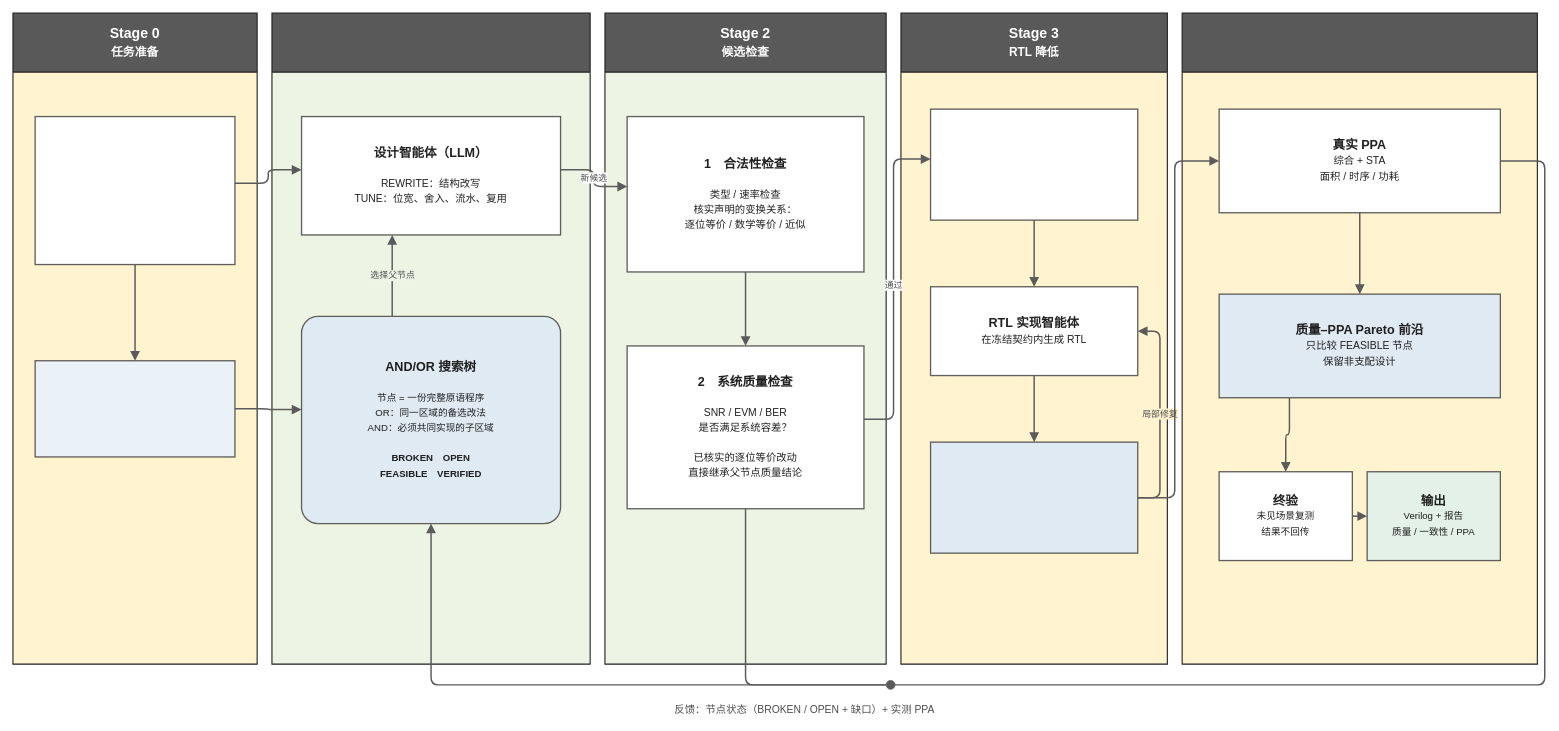
This 1559x731 diagram has some shape labels left out. The shapes that lost their labels are listed below. From the top down, each one's box as (x1, y1, x2, y2) in pixels, then its label:
(930, 108, 1138, 220): 冻结实现契约 接口、量化、状态 latency / II、资源承诺
(34, 116, 235, 265): 任务契约 F 理想功能 Q 质量约束（指标 + 容差） I 接口 + PPA 目标
(271, 12, 590, 664): Stage 1 原语设计
(1181, 12, 1538, 664): Stage 4 综合与输出
(34, 360, 235, 457): 初始原语程序 由 F 直接翻译 搜索树根节点 + 工程基线
(930, 441, 1138, 553): 一致性检查 RTL ≡ 候选 逐位结果 + 事务时序
